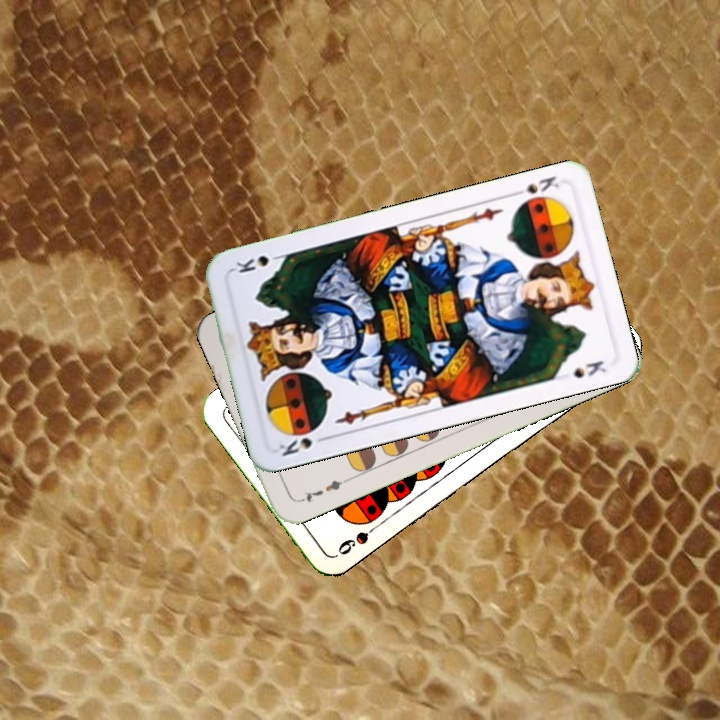E7: (294, 474, 351, 506)
S9: (333, 518, 384, 558)
SK: (274, 432, 332, 459), (508, 172, 561, 199)
